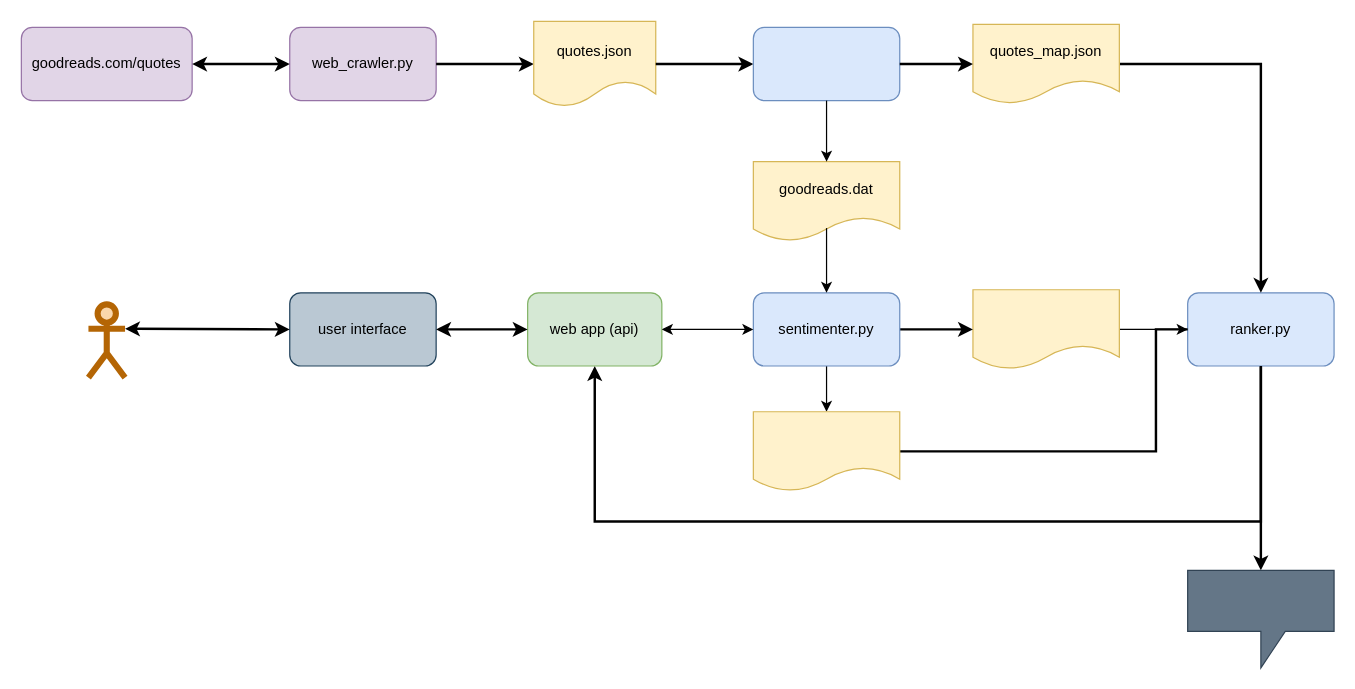
This 1355x689 diagram has some shape labels left out. Here are the shapes that lost their labels. From the top down, the centre of each, then its label:
pixel 826 63: preprocessor.py
pixel 106 340: user
pixel 1045 329: quotes_sentiment.dat str(query_sentiment)
pixel 826 451: str(query_sentiment)
pixel 1260 618: console output
